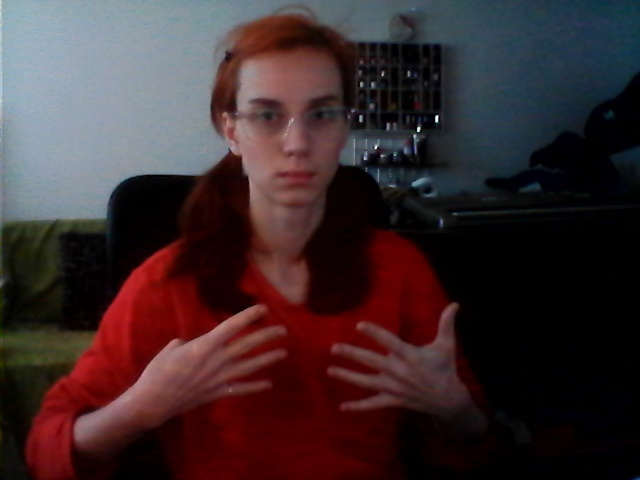devat: (154, 300, 475, 426)
